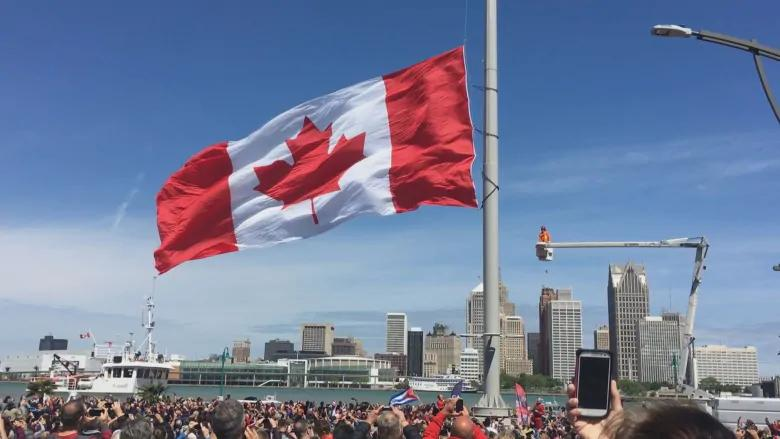Canada flag: (153, 48, 473, 274)
